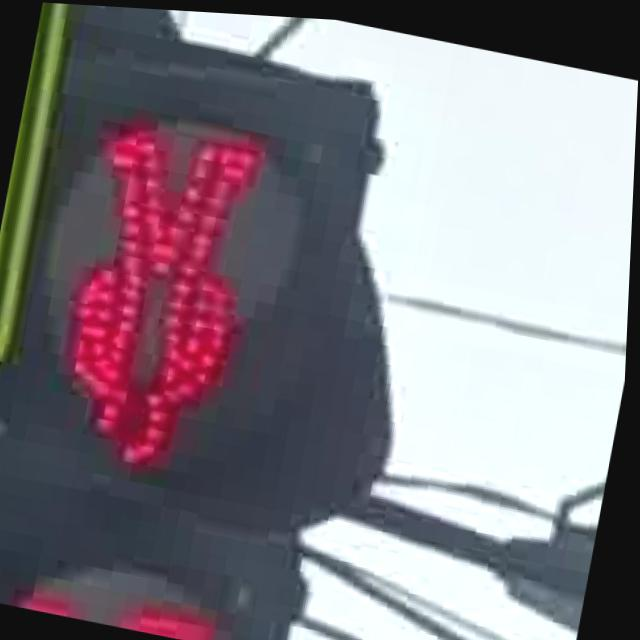red_light: (41, 100, 290, 500)
